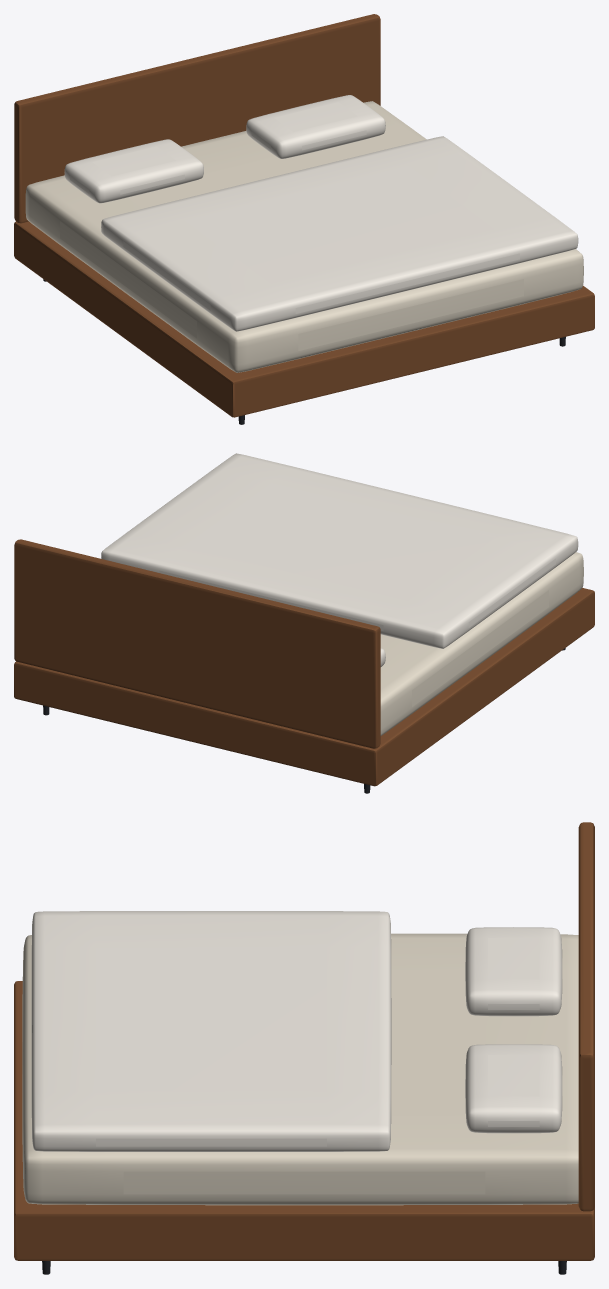
The model's file is bed-200.glb.
3 views of the same model, one above another, from view 1: azimuth 30°, elevation 25°; view 2: azimuth 150°, elevation 25°; view 3: azimuth 270°, elevation 25° (orthographic). The views are drawn at different scales.
Visible parts, largest first — view 1: bed-200; view 2: bed-200; view 3: bed-200.
Boxes of the visible parts, x1=… form: bed-200: x1=14, y1=14, x2=594, y2=424; bed-200: x1=14, y1=453, x2=594, y2=793; bed-200: x1=14, y1=822, x2=594, y2=1274.
Size of the model in its own units: 2.05 by 0.95 by 2.15.
